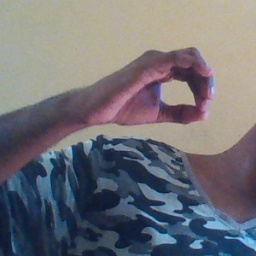O: (99, 39, 216, 133)
